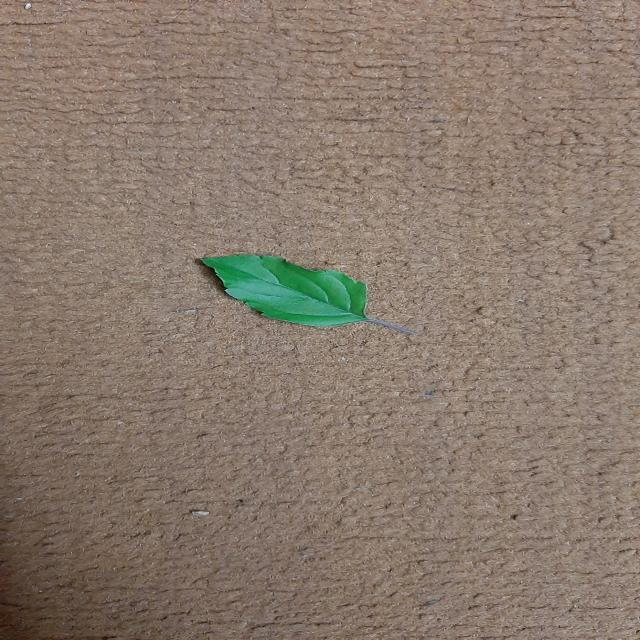tulsi: (203, 255, 415, 334)
